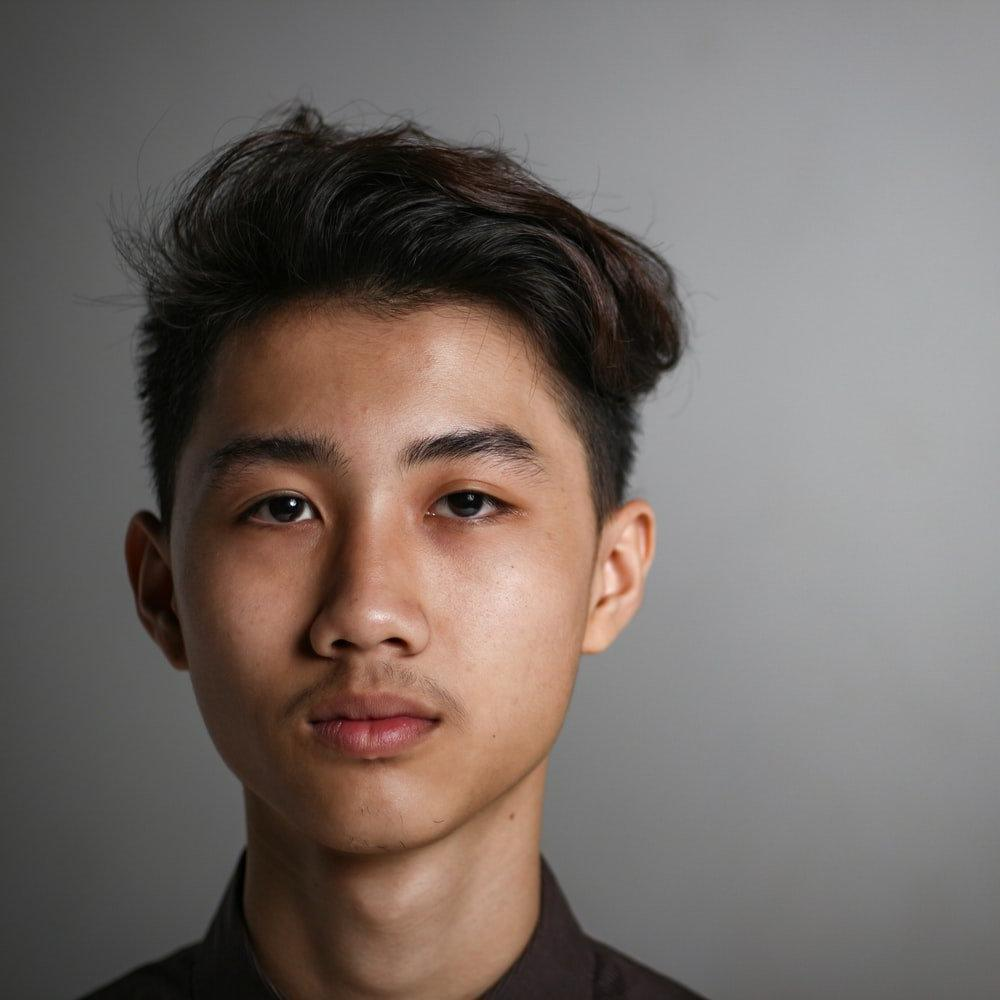Sober: (177, 308, 565, 821)
